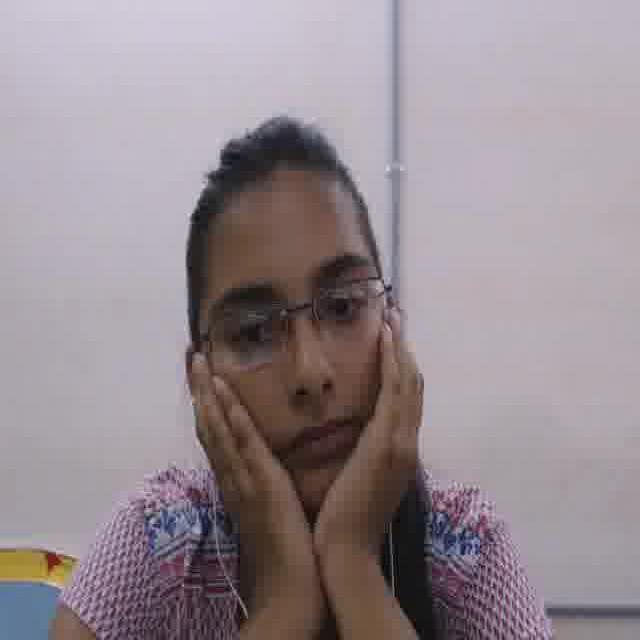Boredom: (201, 183, 385, 504)
